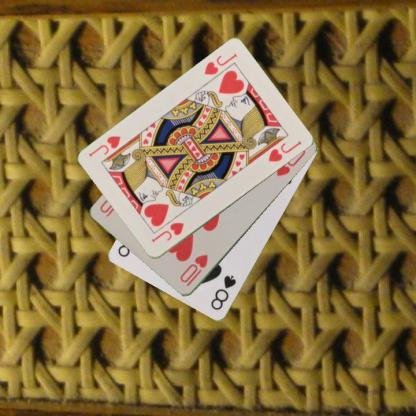10h: (177, 252, 210, 288)
8s: (208, 273, 237, 312)
Jh: (201, 51, 239, 77), (148, 220, 186, 244)
